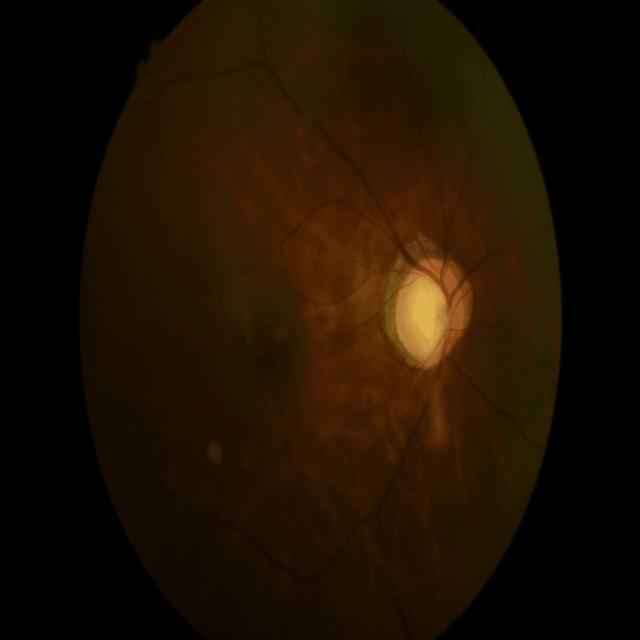cup: (408, 272, 454, 358)
disk: (395, 256, 465, 370)
